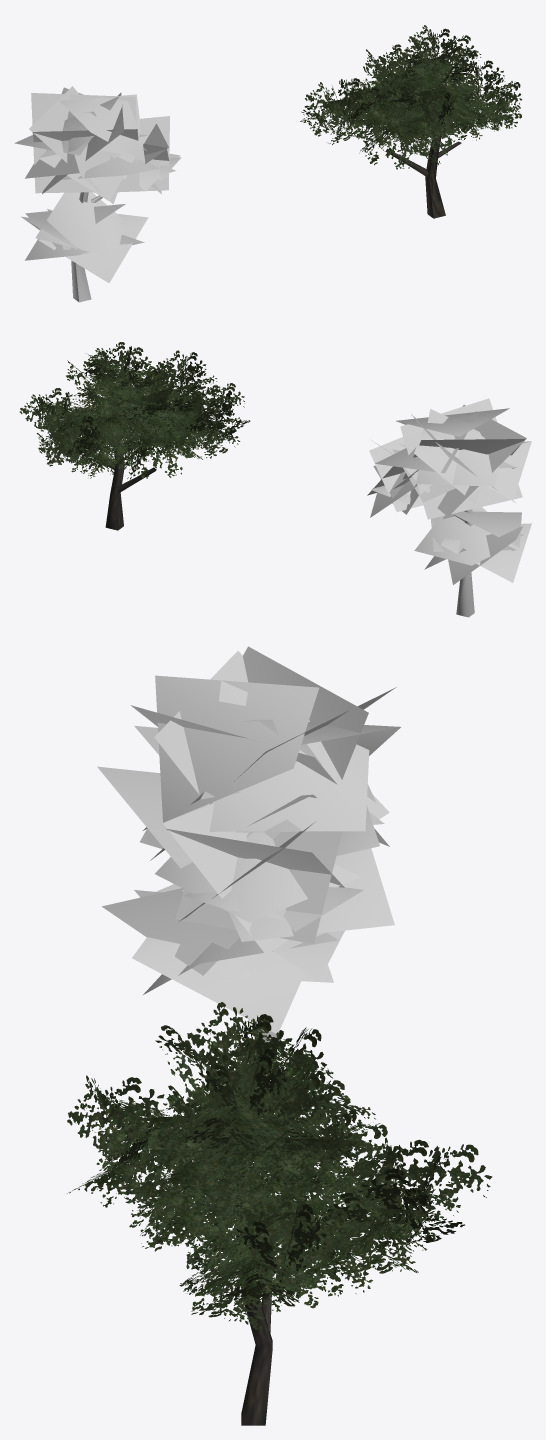
Rendered from jiyuanshu.FBX.
3 renders of one model, top to bottom at view 1: azimuth 30°, elevation 25°; view 2: azimuth 150°, elevation 25°; view 3: azimuth 270°, elevation 25°, orthographic. The views are drawn at different scales.
Parts seen in each view (by area): view 1: Mesh_0236, Mesh_0245; view 2: Mesh_0236, Mesh_0245; view 3: Mesh_0236, Mesh_0245.
Boxes of the visible parts, <box> form: Mesh_0236: <box>14,86,181,302</box>; Mesh_0245: <box>300,25,522,218</box>; Mesh_0236: <box>367,398,531,617</box>; Mesh_0245: <box>19,342,250,530</box>; Mesh_0236: <box>97,646,400,1075</box>; Mesh_0245: <box>67,1002,492,1425</box>.
Size of the model in its own units: 492 by 184 by 196.
